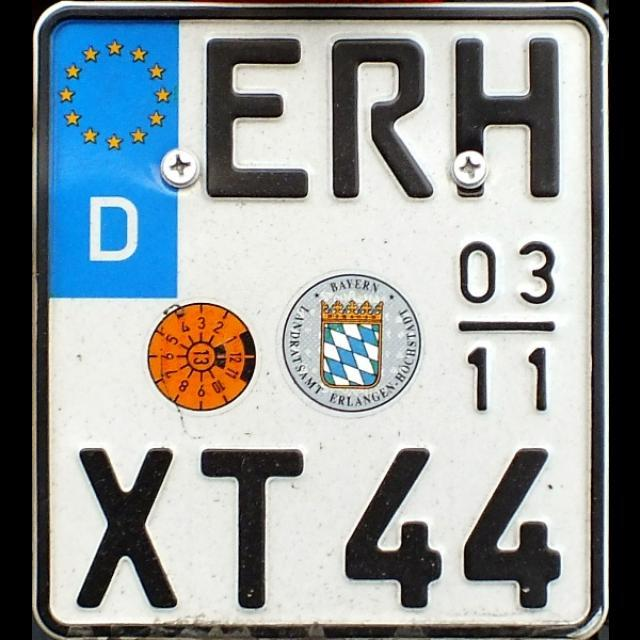license-plates: (35, 2, 610, 640)
